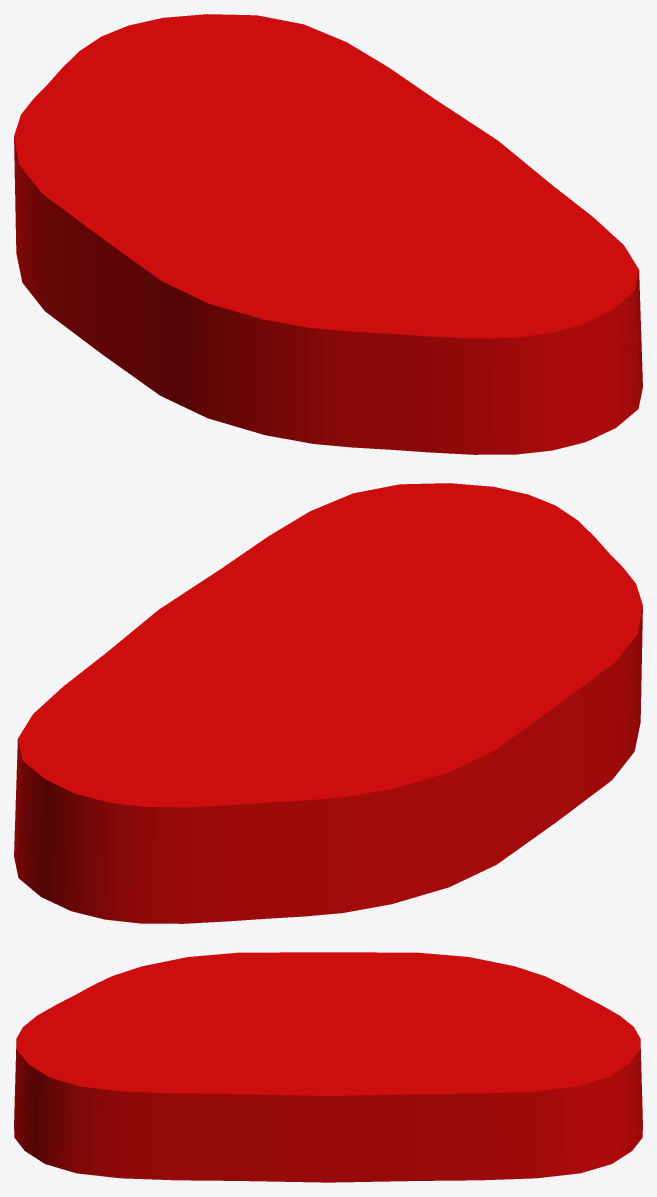
The model's file is foot.fbx.
3 views of the same model, one above another, from view 1: azimuth 30°, elevation 25°; view 2: azimuth 150°, elevation 25°; view 3: azimuth 270°, elevation 25° (orthographic). The views are drawn at different scales.
Parts seen in each view (by area): view 1: pasted__pCylinder3; view 2: pasted__pCylinder3; view 3: pasted__pCylinder3.
Part boxes in pixels (x1,y1,x2,y2): pasted__pCylinder3: (14,14,642,454); pasted__pCylinder3: (14,483,642,923); pasted__pCylinder3: (14,952,642,1182).
Size of the model in its own units: 0.638 by 0.1784 by 1.18.
